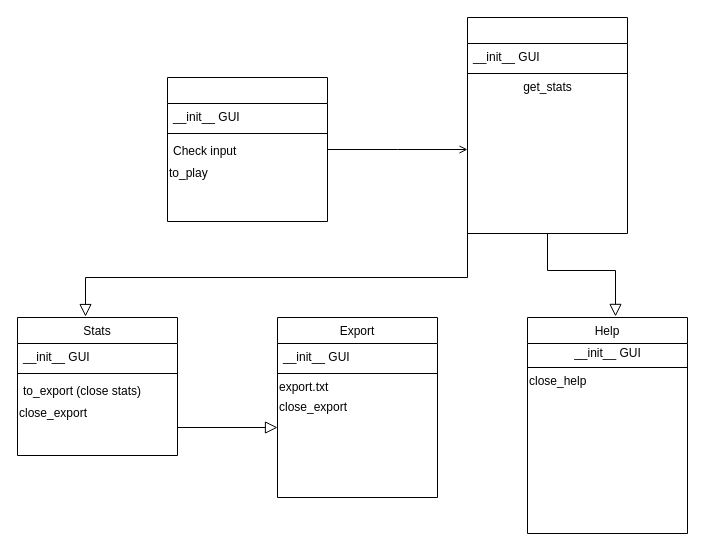
The diagram is 705 pixels wide and 551 high, and some of its shapes have lost their labels. Each missing label, with the box of its shape:
Play: (466, 16, 628, 234)
Start: (166, 76, 328, 222)
